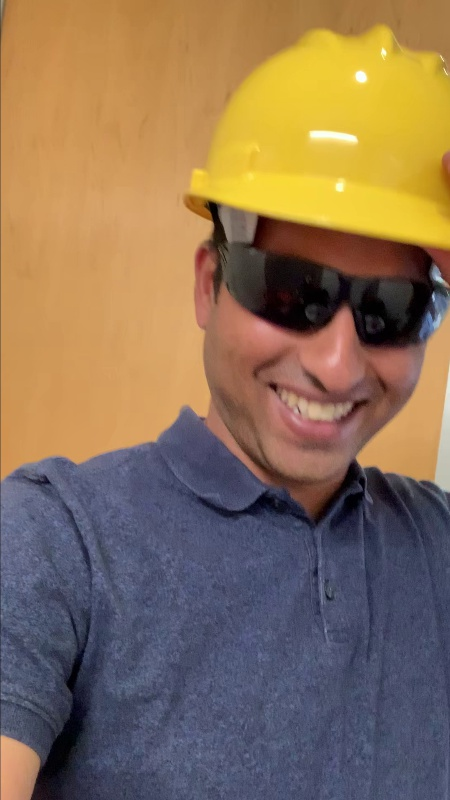glasses: (200, 234, 450, 355)
helmet: (179, 16, 450, 255)
